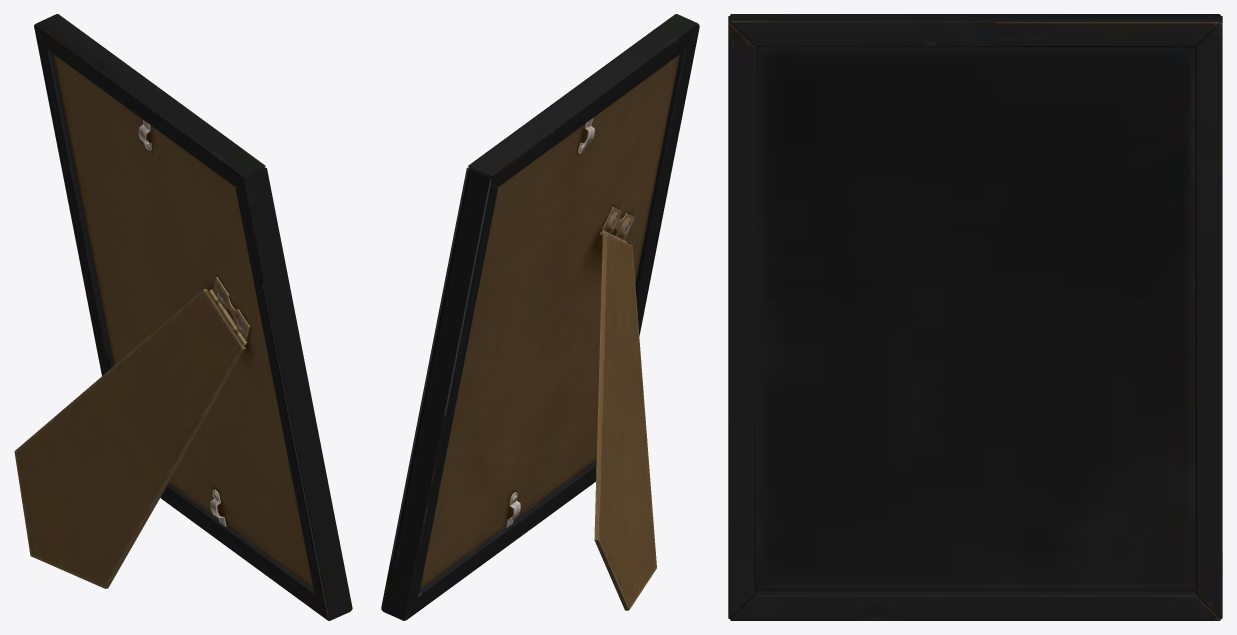
The model's file is standing_picture_frame_01.glb.
The picture shows the model from 3 angles, left to right: view 1: azimuth 30°, elevation 25°; view 2: azimuth 150°, elevation 25°; view 3: azimuth 270°, elevation 25°; orthographic projection. The views are drawn at different scales.
Visible parts, largest first — view 1: standing_picture_frame_01; view 2: standing_picture_frame_01; view 3: standing_picture_frame_01.
Boxes of the visible parts, x1=… form: standing_picture_frame_01: x1=14, y1=14, x2=352, y2=620; standing_picture_frame_01: x1=381, y1=14, x2=699, y2=620; standing_picture_frame_01: x1=728, y1=14, x2=1222, y2=620.
Size of the model in its own units: 0.1003 by 0.2497 by 0.2008.
Materials: 3 (3 with a texture image).
